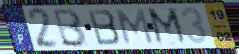2: (27, 6, 60, 52)
3: (180, 5, 211, 47)
B: (53, 7, 89, 49), (86, 8, 123, 47)
M: (145, 7, 191, 47), (114, 8, 155, 45)
